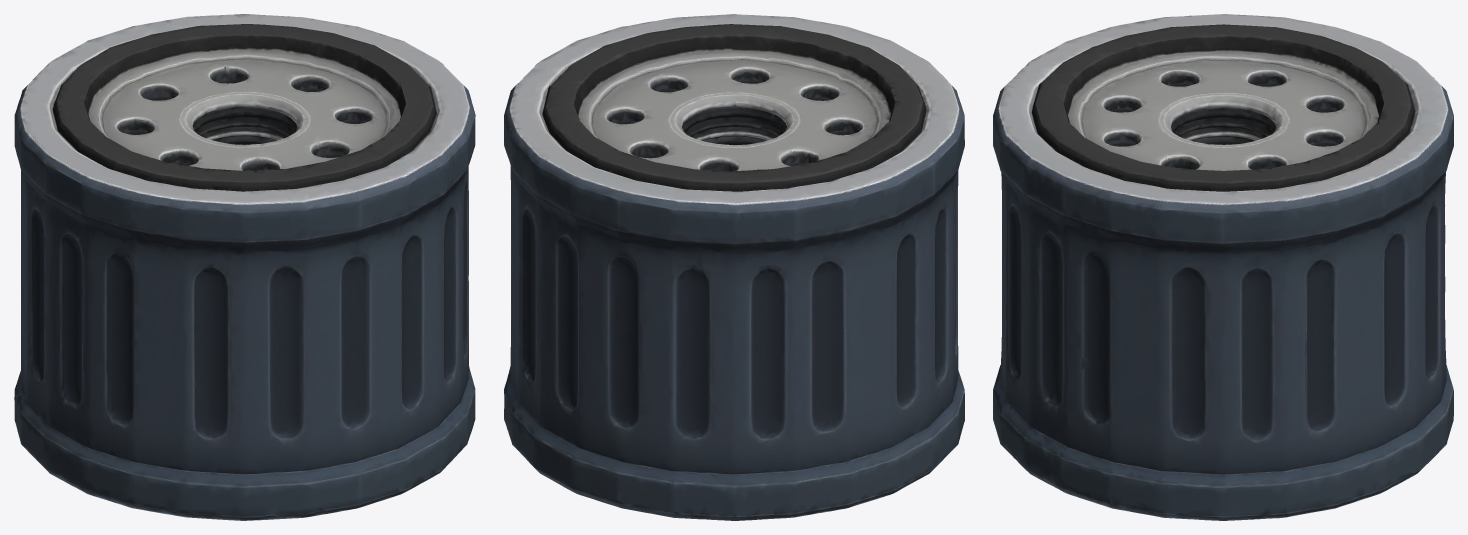
The model's file is oil_filter_1k_real.glb.
3 renders of one model, left to right at view 1: azimuth 30°, elevation 25°; view 2: azimuth 150°, elevation 25°; view 3: azimuth 270°, elevation 25°, orthographic.
Parts seen in each view (by area): view 1: tripo_node_7a988e6a-acb3-40c2-a9f7-8ebfbb6e6434; view 2: tripo_node_7a988e6a-acb3-40c2-a9f7-8ebfbb6e6434; view 3: tripo_node_7a988e6a-acb3-40c2-a9f7-8ebfbb6e6434.
Boxes of the visible parts, <box> form: tripo_node_7a988e6a-acb3-40c2-a9f7-8ebfbb6e6434: <box>14,14,475,520</box>; tripo_node_7a988e6a-acb3-40c2-a9f7-8ebfbb6e6434: <box>504,14,964,520</box>; tripo_node_7a988e6a-acb3-40c2-a9f7-8ebfbb6e6434: <box>993,14,1453,520</box>.
Size of the model in its own units: 1 by 0.7856 by 0.9987.
Materials: 1 (1 with a texture image).
